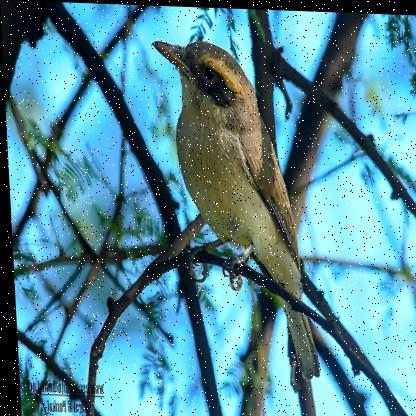Burung: (152, 40, 318, 378)
